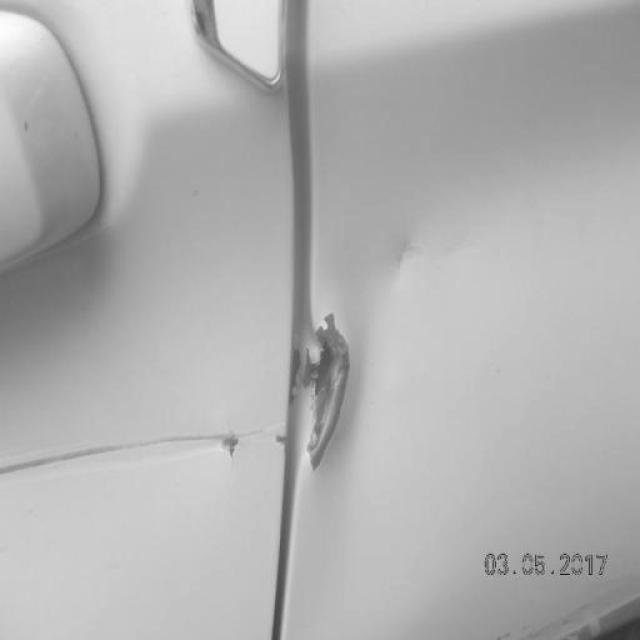dent: (391, 236, 482, 278)
scratch: (0, 421, 291, 479)
tear: (303, 313, 354, 489)
